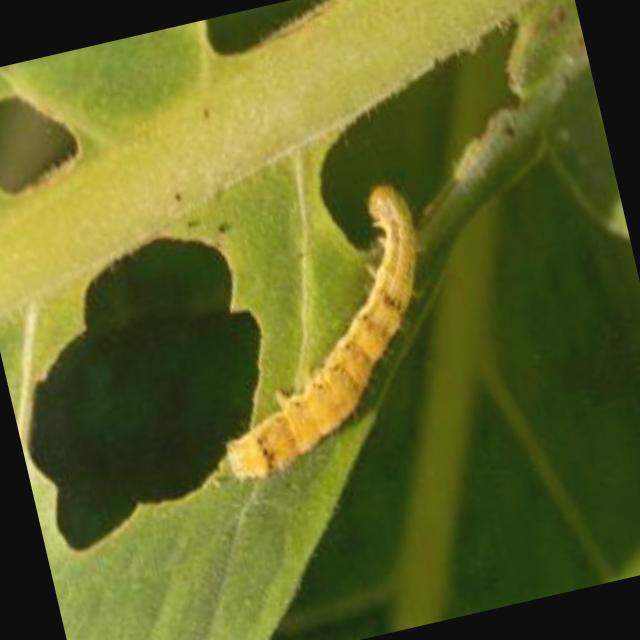Cotton bollworm: (143, 144, 518, 540)
